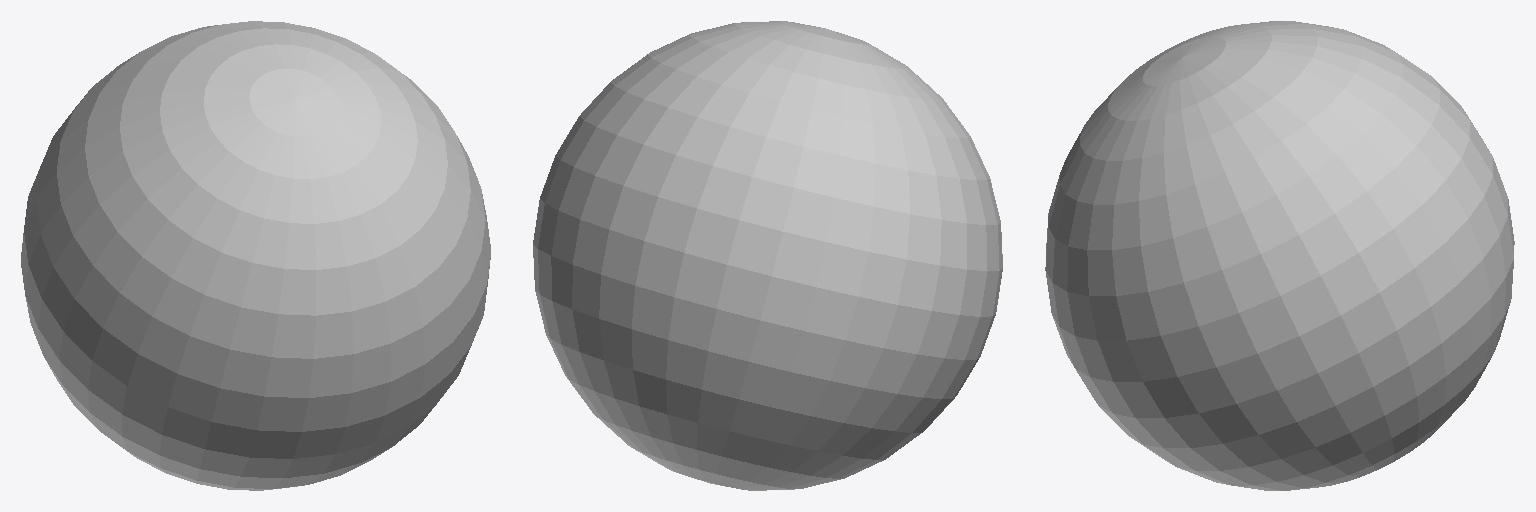
The model's file is Right Shoulder.obj.
3 renders of one model, left to right at view 1: azimuth 30°, elevation 25°; view 2: azimuth 150°, elevation 25°; view 3: azimuth 270°, elevation 25°, orthographic.
Parts seen in each view (by area): view 1: Right_Shoulder_Sphere.026; view 2: Right_Shoulder_Sphere.026; view 3: Right_Shoulder_Sphere.026.
Part boxes in pixels (left/top/right/bottom): Right_Shoulder_Sphere.026: left=21, top=21, right=490, bottom=490; Right_Shoulder_Sphere.026: left=533, top=21, right=1002, bottom=490; Right_Shoulder_Sphere.026: left=1045, top=21, right=1514, bottom=490.
Bounding box in the file's own units: 0.6516 × 0.6541 × 0.6519.